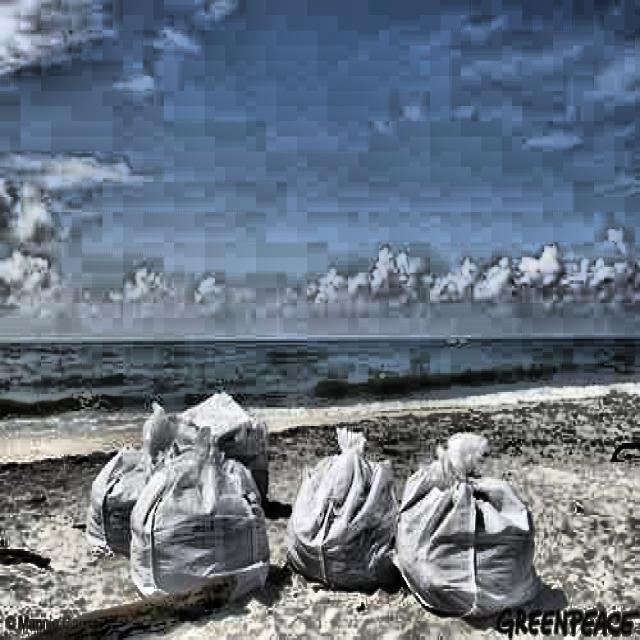Plastic: (392, 416, 542, 614), (122, 439, 286, 605), (284, 424, 408, 608)
